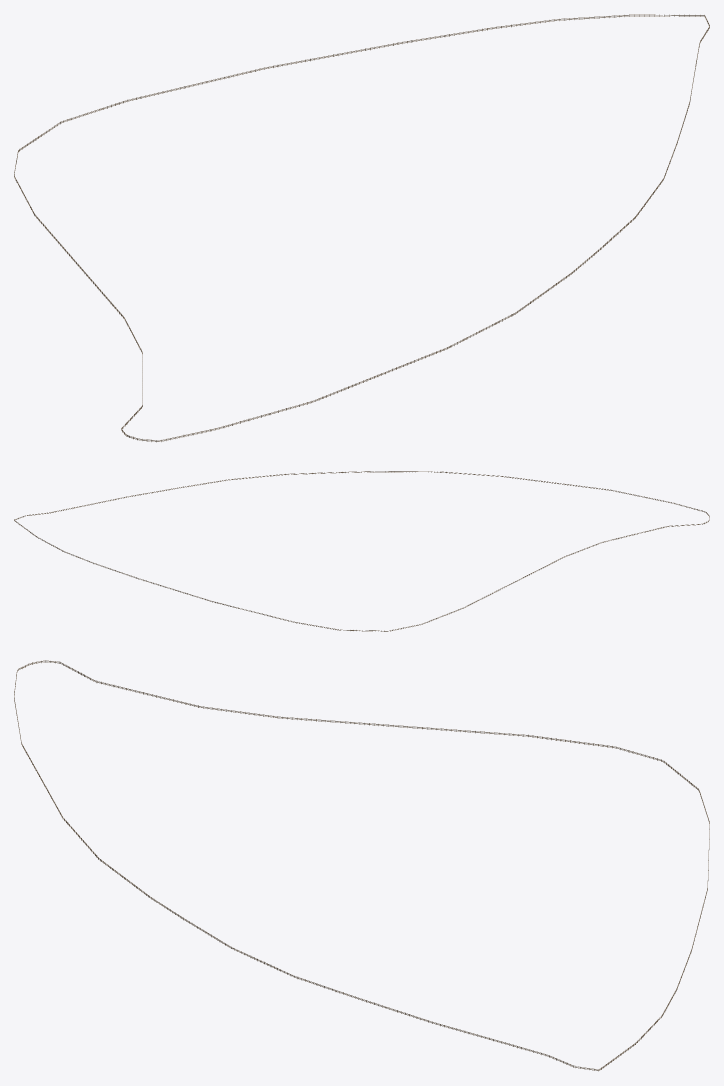
Rendered from border_00038.glb.
The picture shows the model from 3 angles, top to bottom: view 1: azimuth 30°, elevation 25°; view 2: azimuth 150°, elevation 25°; view 3: azimuth 270°, elevation 25°; orthographic projection. The views are drawn at different scales.
Parts seen in each view (by area): view 1: Fence rails, Fence posts; view 2: Fence rails, Fence posts; view 3: Fence rails, Fence posts.
Boxes of the visible parts, bbox=[...] form: Fence rails: bbox=[14, 14, 709, 441]; Fence posts: bbox=[14, 14, 709, 442]; Fence rails: bbox=[14, 471, 709, 631]; Fence posts: bbox=[15, 471, 709, 631]; Fence rails: bbox=[14, 660, 709, 1070]; Fence posts: bbox=[14, 660, 709, 1071].
Bounding box in the file's own units: 426 × 1.21 × 306.
